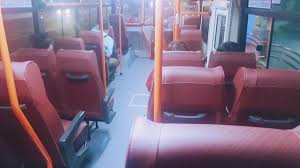seat: (4, 50, 91, 155)
